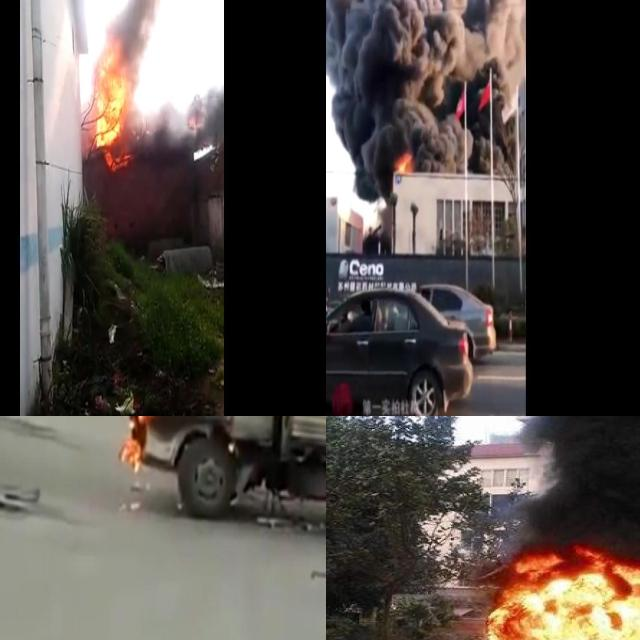fire: (479, 547, 640, 640), (93, 44, 130, 152), (118, 416, 152, 471), (394, 150, 413, 176)
smoke: (326, 0, 527, 198), (450, 416, 640, 563), (85, 0, 220, 73)
